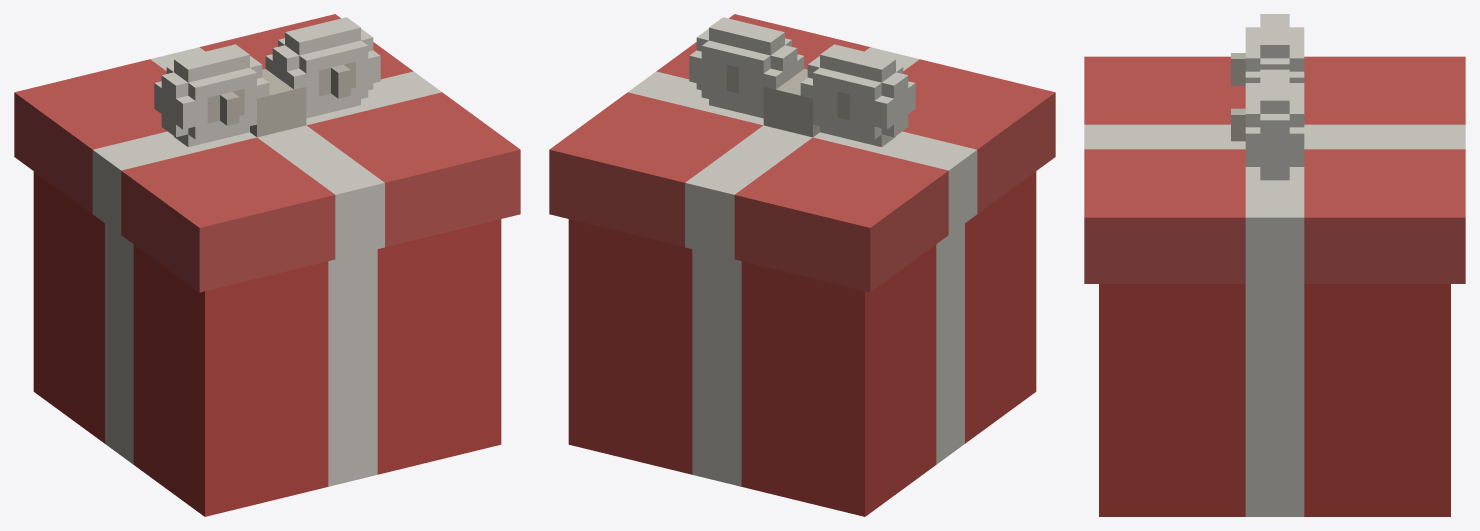
The model's file is gift-red.glb.
3 renders of one model, left to right at view 1: azimuth 30°, elevation 25°; view 2: azimuth 150°, elevation 25°; view 3: azimuth 270°, elevation 25°, orthographic. The views are drawn at different scales.
Parts seen in each view (by area): view 1: prop; view 2: prop; view 3: prop.
Part boxes in pixels (x1,y1,x2,y2): prop: (14, 14, 520, 516); prop: (549, 14, 1055, 516); prop: (1084, 14, 1465, 516).
Size of the model in its own units: 14.34 by 16 by 14.34.
